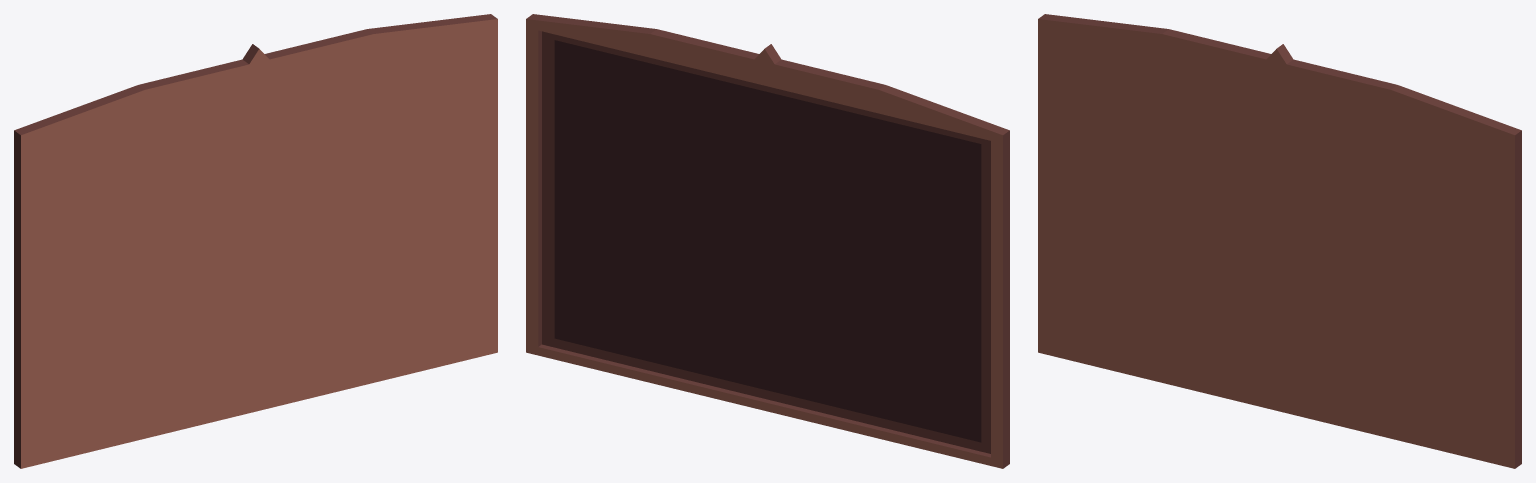
File: Pinboard.fbx
The picture shows the model from 3 angles, left to right: view 1: azimuth 30°, elevation 25°; view 2: azimuth 150°, elevation 25°; view 3: azimuth 330°, elevation 25°; orthographic projection.
Parts seen in each view (by area): view 1: Cube.001; view 2: Cube.001; view 3: Cube.001.
Boxes of the visible parts, x1,y1,x2,y2 form: Cube.001: (14, 14, 497, 468); Cube.001: (526, 14, 1009, 468); Cube.001: (1038, 14, 1521, 468).
Size of the model in its own units: 152 by 110 by 3.77.
